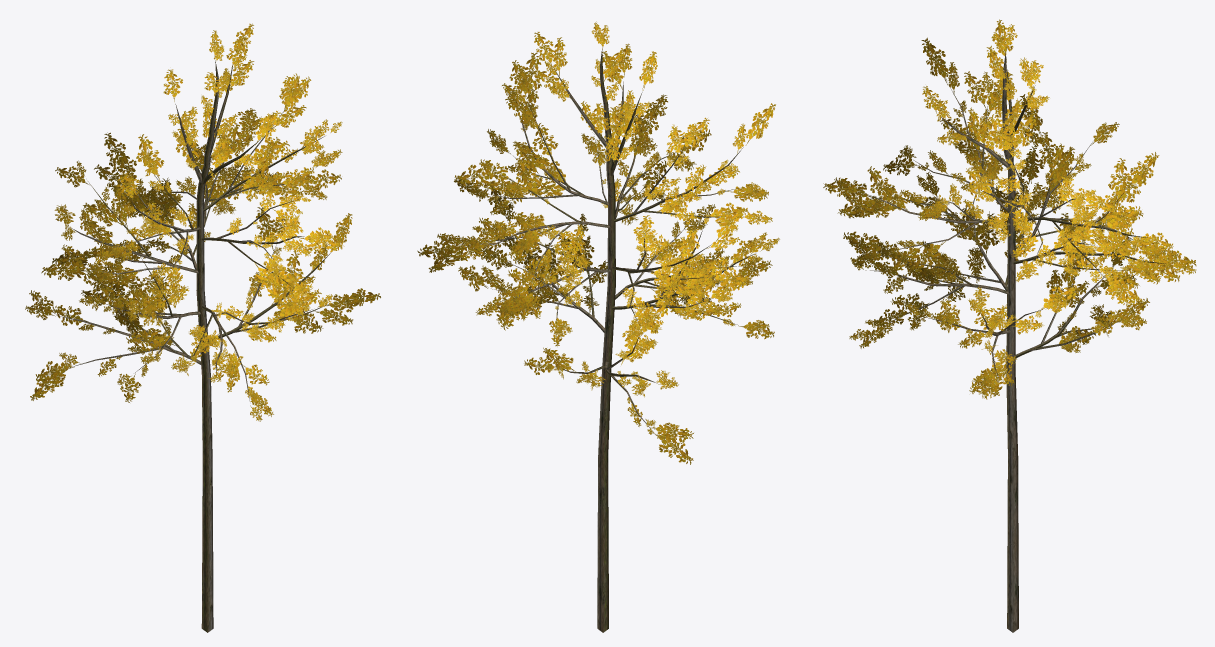
The model's file is aspen_medium.glb.
3 renders of one model, left to right at view 1: azimuth 30°, elevation 25°; view 2: azimuth 150°, elevation 25°; view 3: azimuth 270°, elevation 25°, orthographic.
Parts seen in each view (by area): view 1: leaves, trunk; view 2: leaves, trunk; view 3: leaves, trunk.
Part boxes in pixels (<box>): leaves: <box>25,23,380,421</box>; trunk: <box>58,60,331,632</box>; leaves: <box>417,21,779,464</box>; trunk: <box>479,49,755,632</box>; leaves: <box>823,19,1196,399</box>; trunk: <box>865,51,1165,632</box>.
Bounding box in the file's own units: 6.79 × 12 × 6.79.
2 materials, 2 textured.
